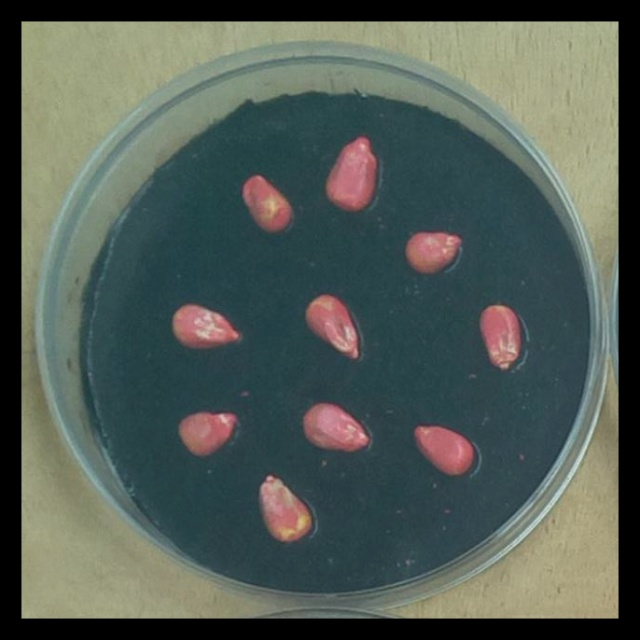Zea mays: (319, 130, 385, 222), (251, 469, 319, 548), (299, 288, 367, 366), (164, 297, 247, 357), (297, 397, 376, 459), (407, 419, 480, 484), (170, 403, 246, 464), (235, 169, 298, 240), (472, 299, 527, 377), (398, 225, 469, 282)
